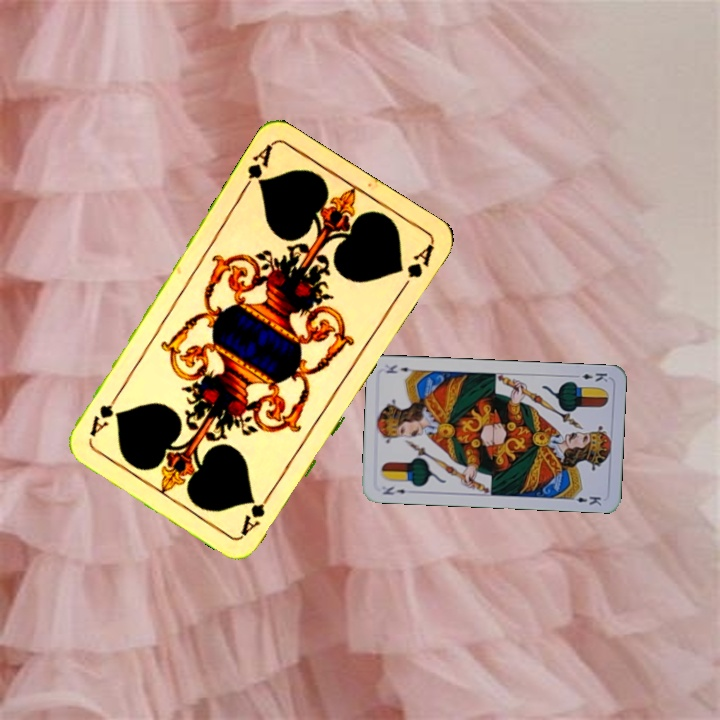EK: (570, 369, 610, 384), (379, 482, 408, 497)
GA: (237, 485, 276, 538), (238, 140, 275, 194)
